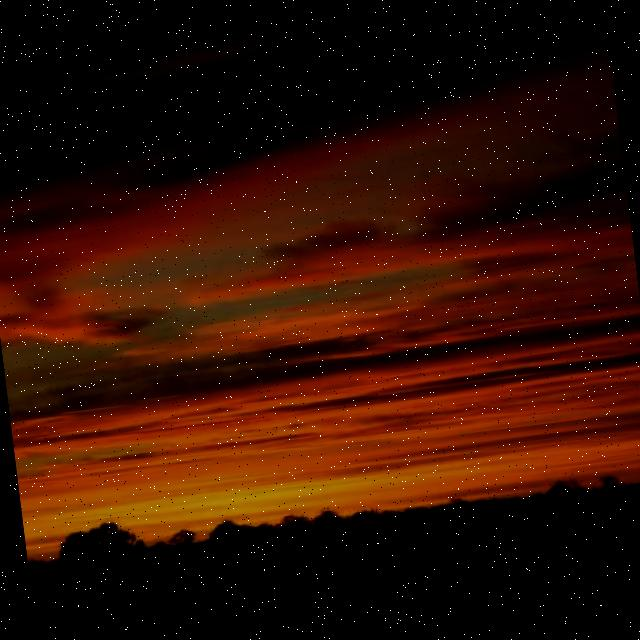As: (1, 1, 639, 364)
